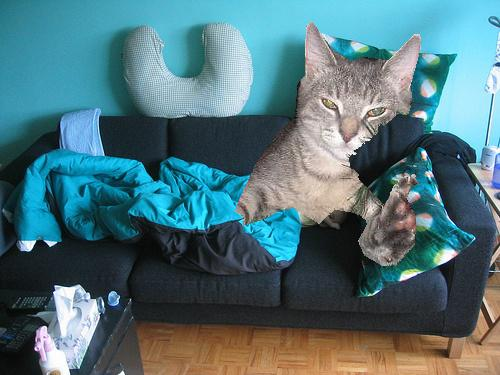tampered: (236, 22, 421, 266)
